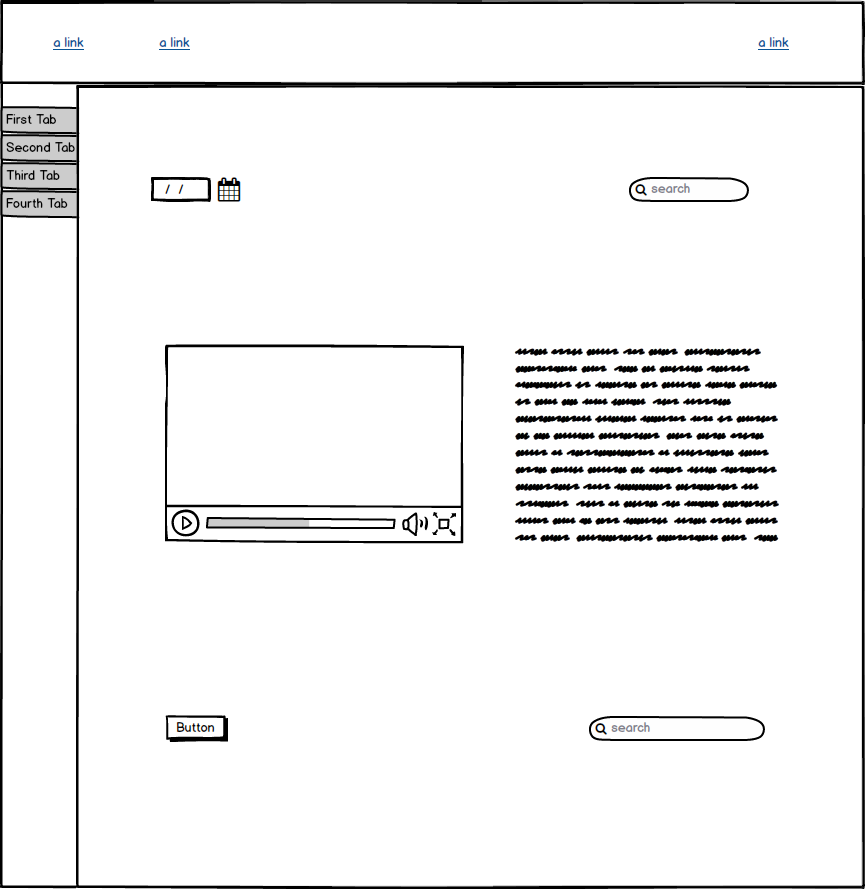button: (159, 705, 234, 750)
date_picker: (145, 167, 245, 212)
navlink: (748, 25, 801, 58), (145, 29, 199, 61), (45, 29, 98, 58)
p: (513, 343, 787, 548)
search: (580, 702, 772, 755), (622, 169, 760, 205)
sidebar: (5, 98, 84, 232)
video: (161, 338, 471, 547)
